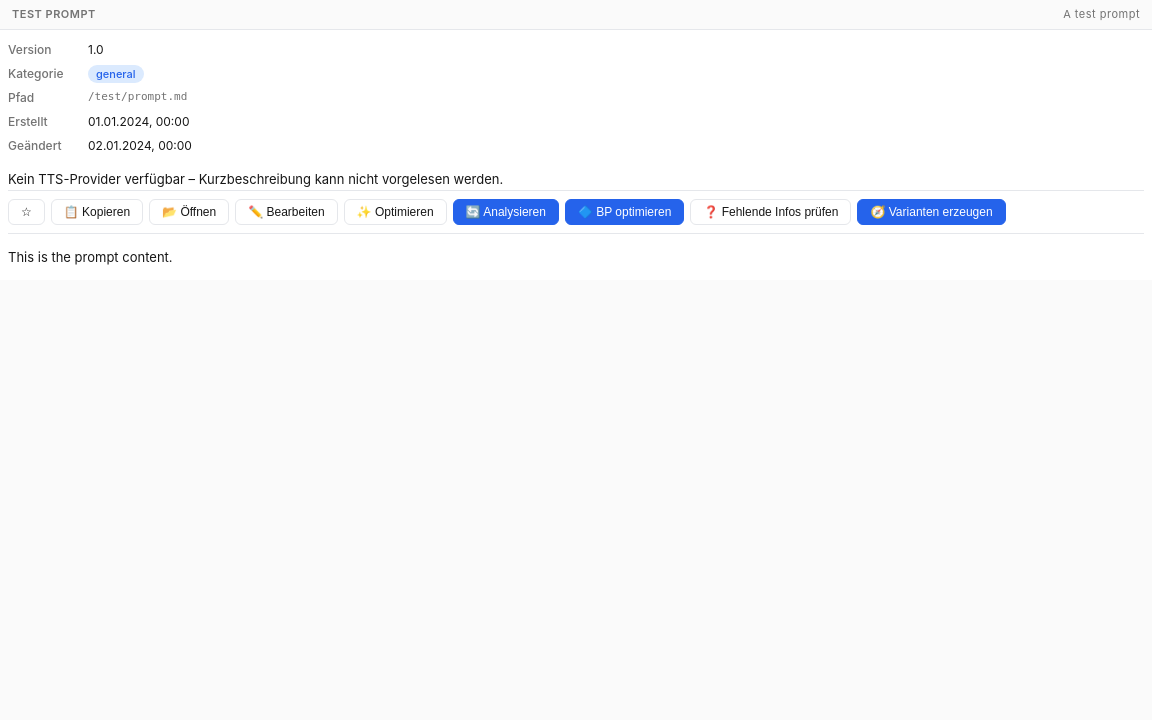
Scenario: DetailsPanel — Gate Trigger (Batch 6A) › handleBlueprintOptimize does not crash when gateEnabled but no session exists
Click the button "🔷 BP optimieren" at coordinates (625, 212), box [565,198,684,224]
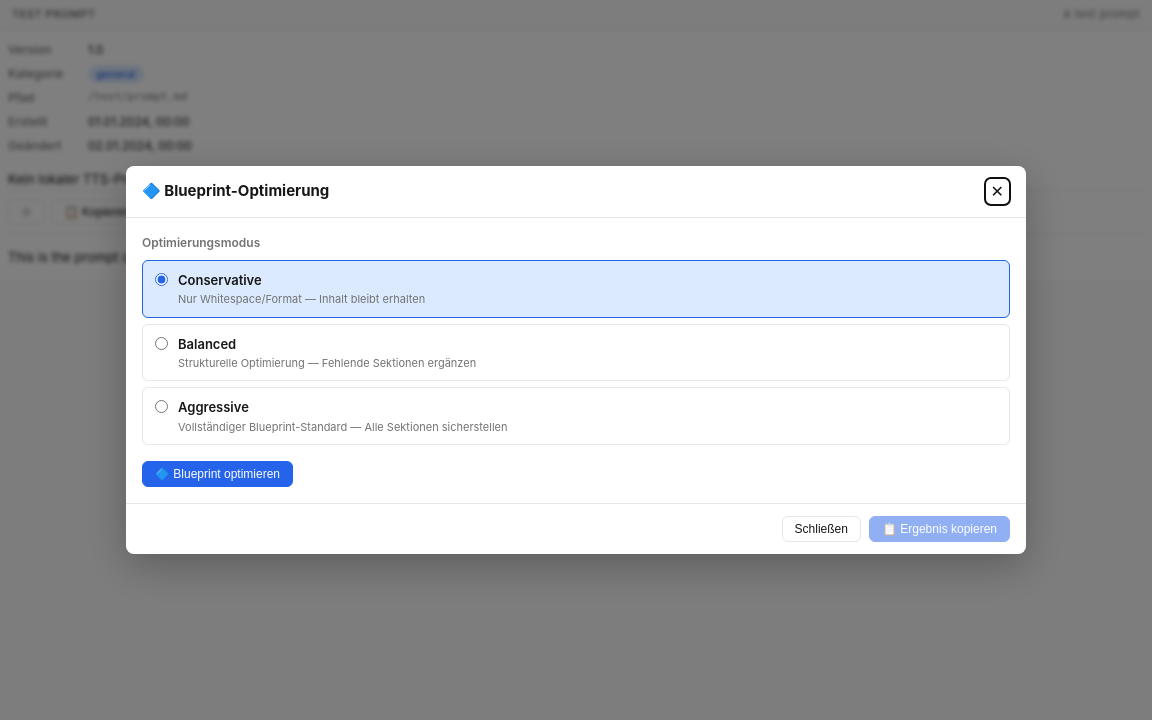
Now the heading "🔷 Blueprint-Optimierung" is shown, box [142,180,329,202]
